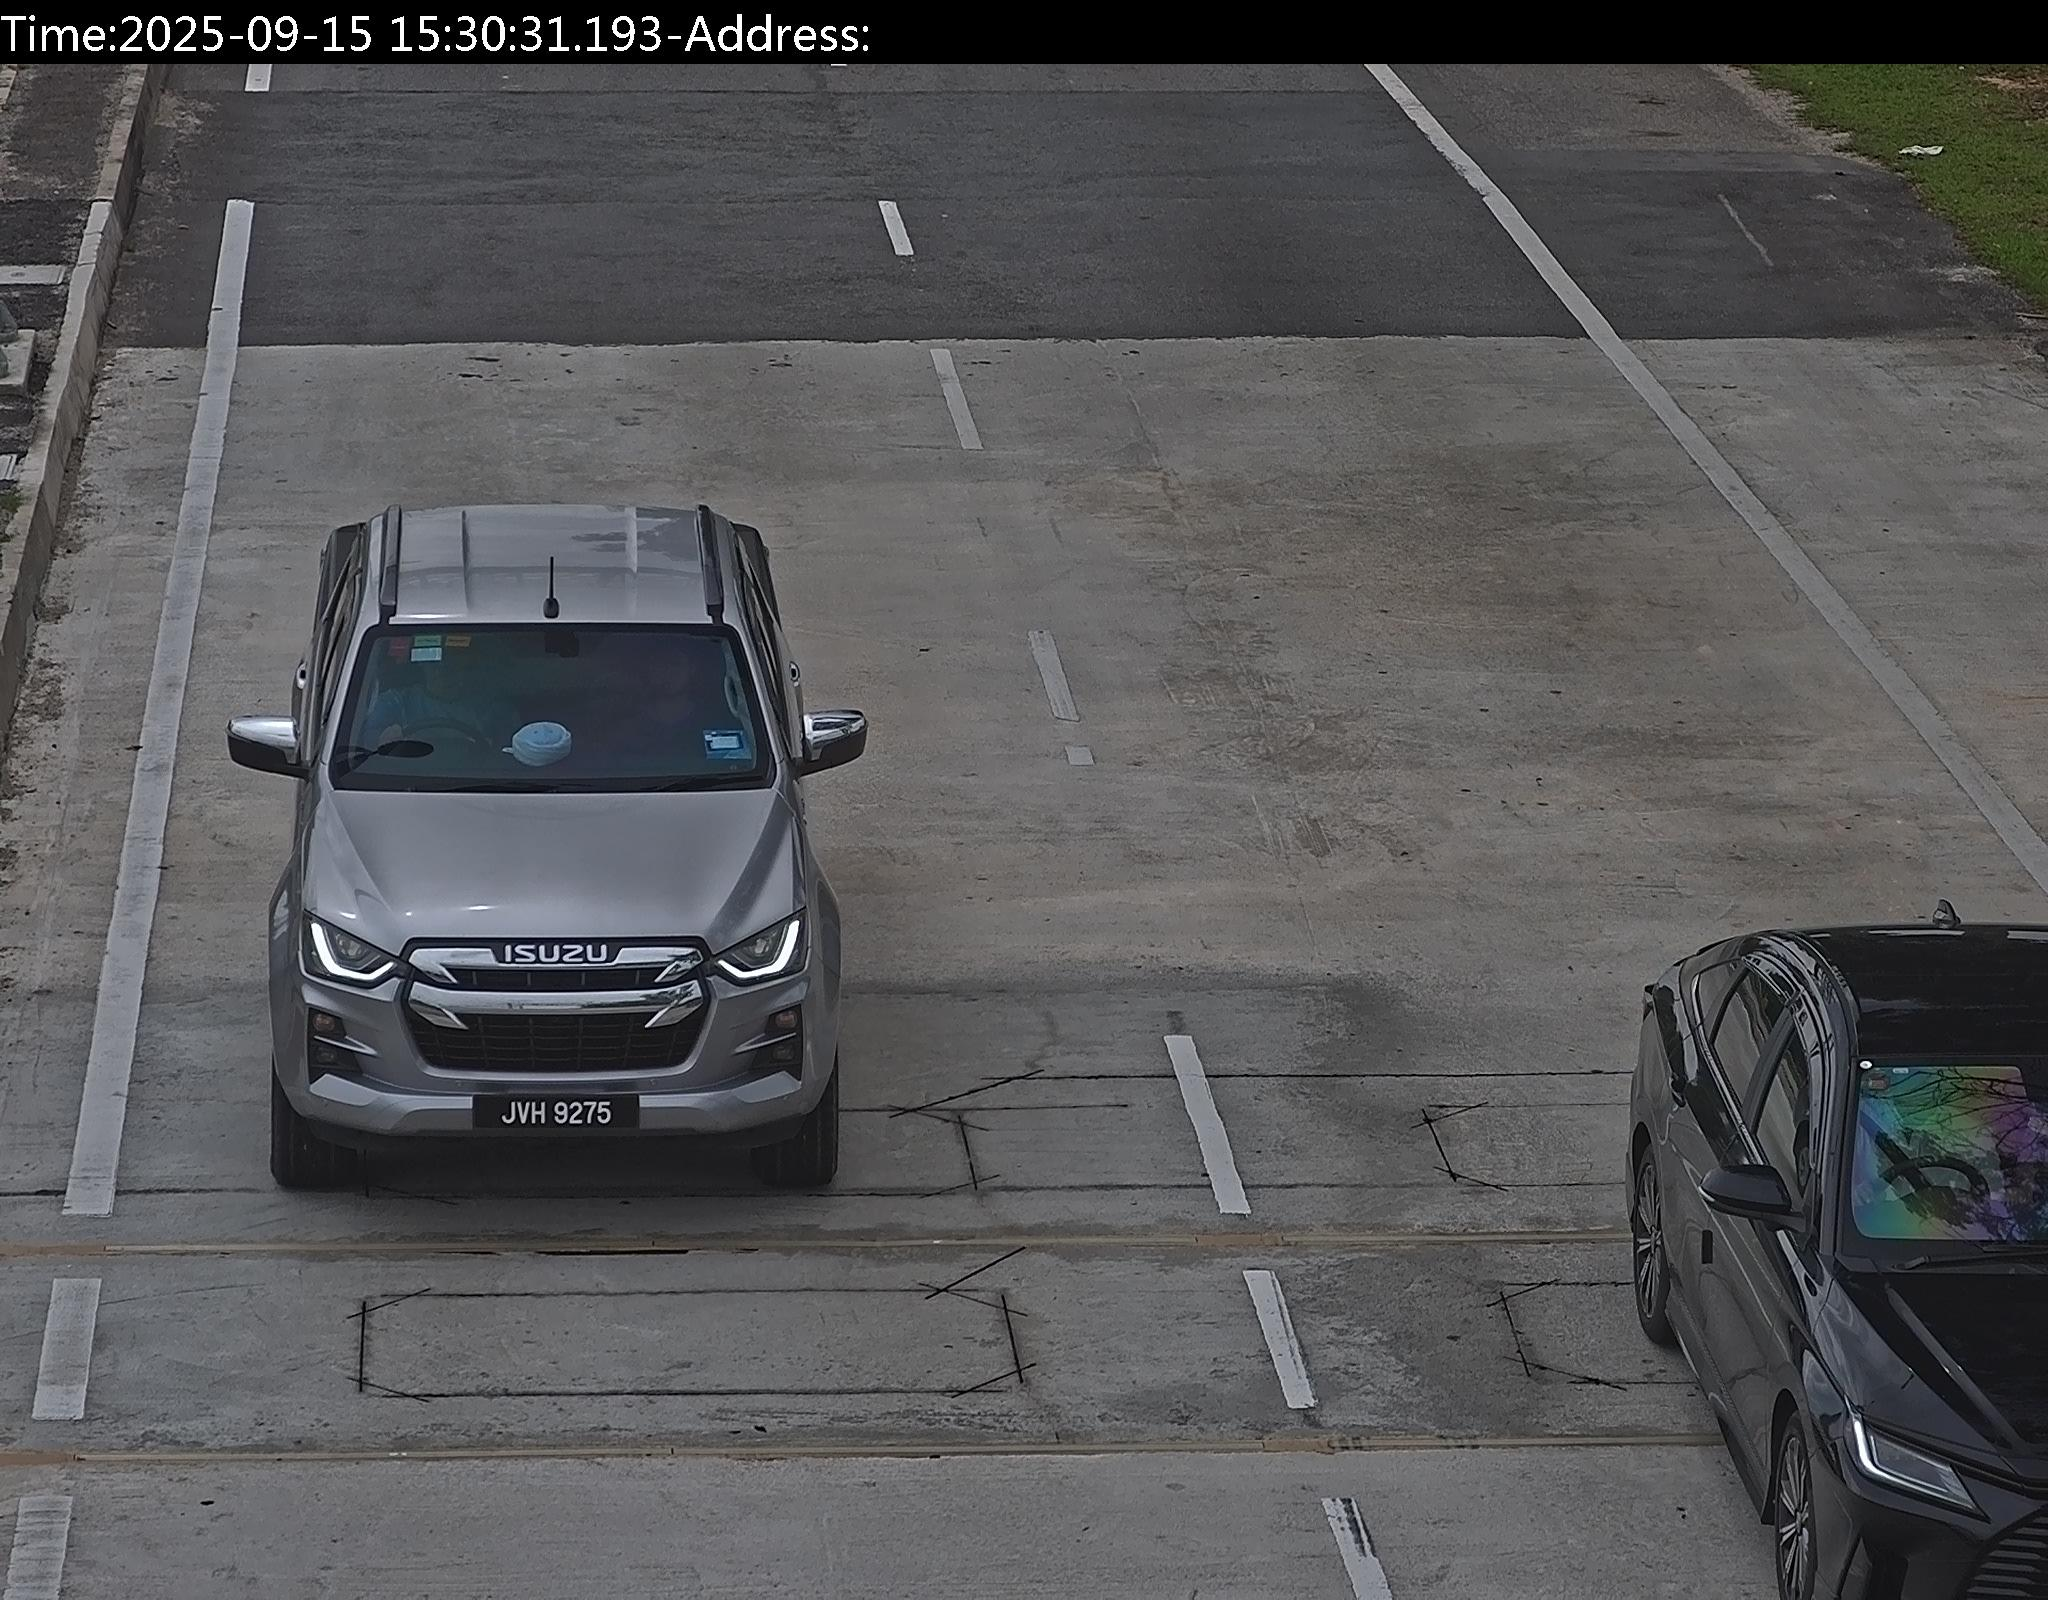non broken: (479, 1098, 627, 1131)
